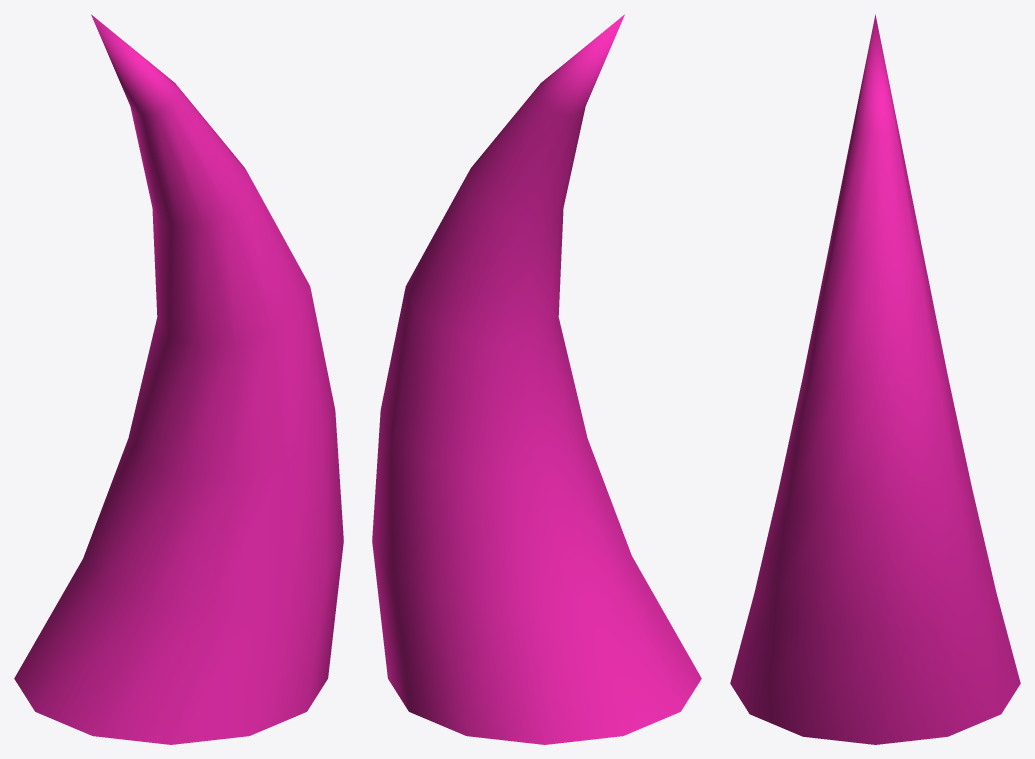
The model's file is MD_Roots_001.FBX.
The picture shows the model from 3 angles, left to right: view 1: azimuth 30°, elevation 25°; view 2: azimuth 150°, elevation 25°; view 3: azimuth 270°, elevation 25°; orthographic projection. The views are drawn at different scales.
Parts seen in each view (by area): view 1: Roots_001; view 2: Roots_001; view 3: Roots_001.
Part boxes in pixels (left/top/right/bottom): Roots_001: left=14, top=14, right=343, bottom=744; Roots_001: left=372, top=14, right=701, bottom=744; Roots_001: left=730, top=14, right=1020, bottom=744.
Size of the model in its own units: 0.4282 by 0.9619 by 0.4.
